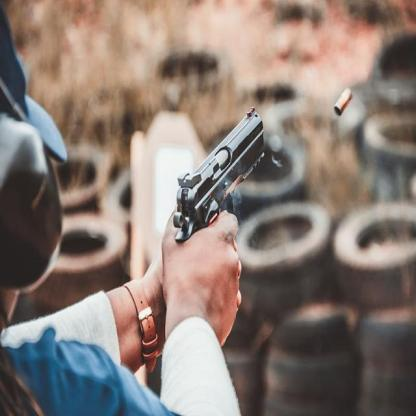handgun: (172, 106, 268, 294)
